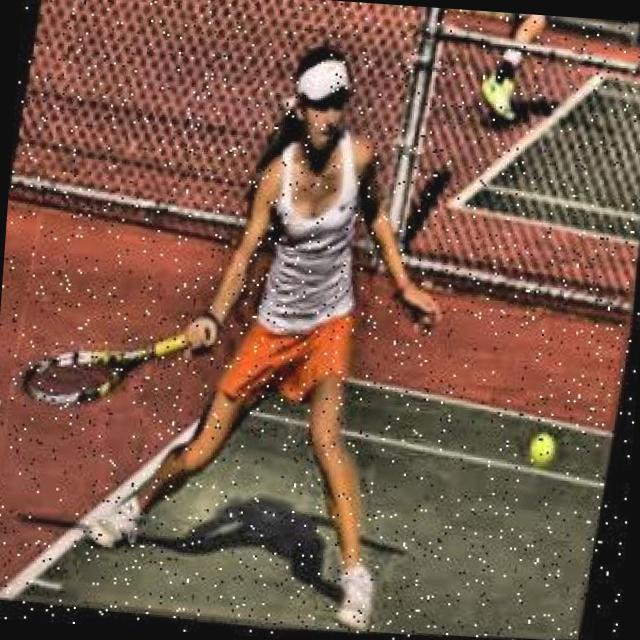Tennis Ball: (518, 428, 568, 478)
